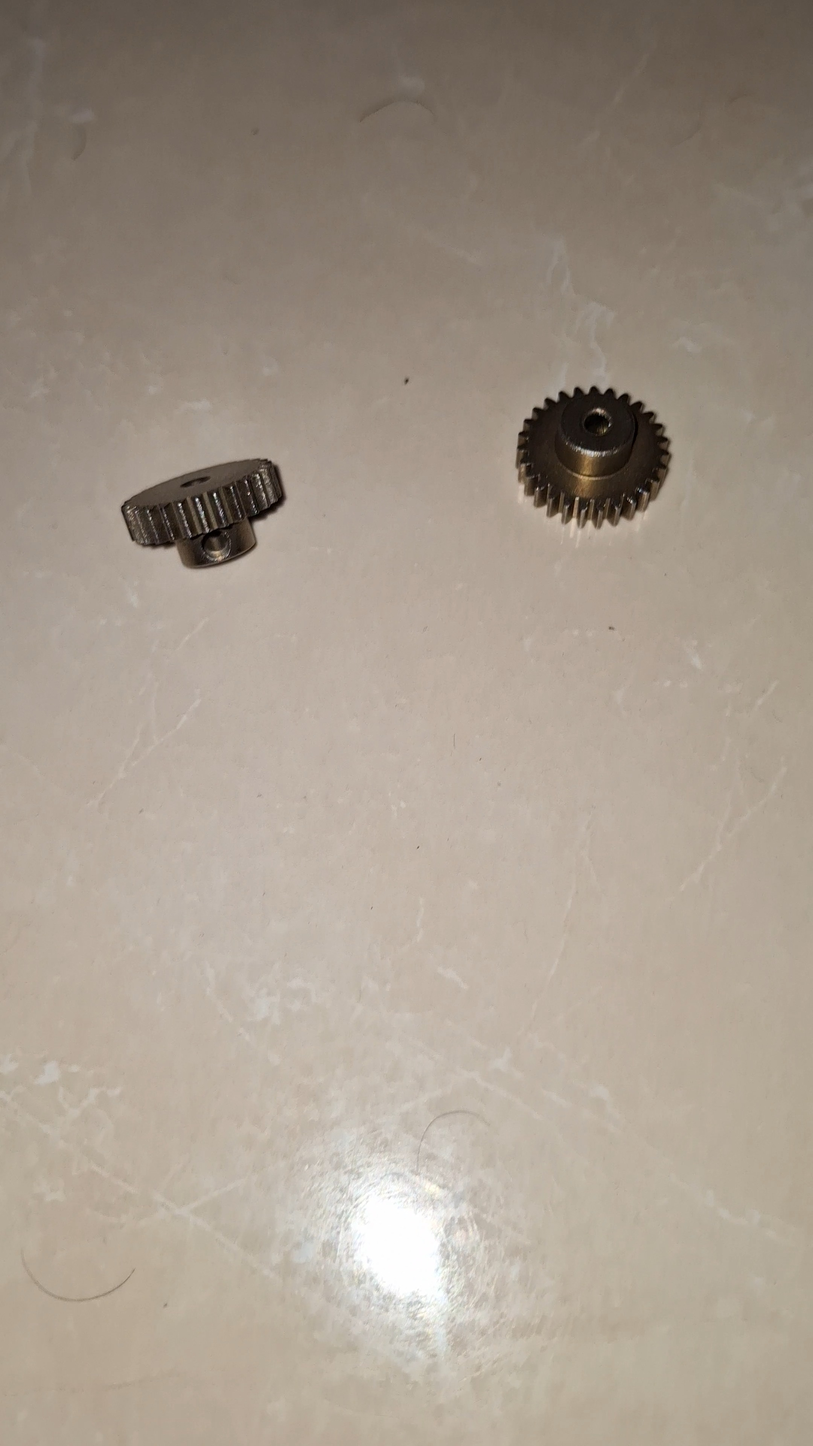spur gear: (517, 387, 669, 526), (122, 459, 283, 567)
